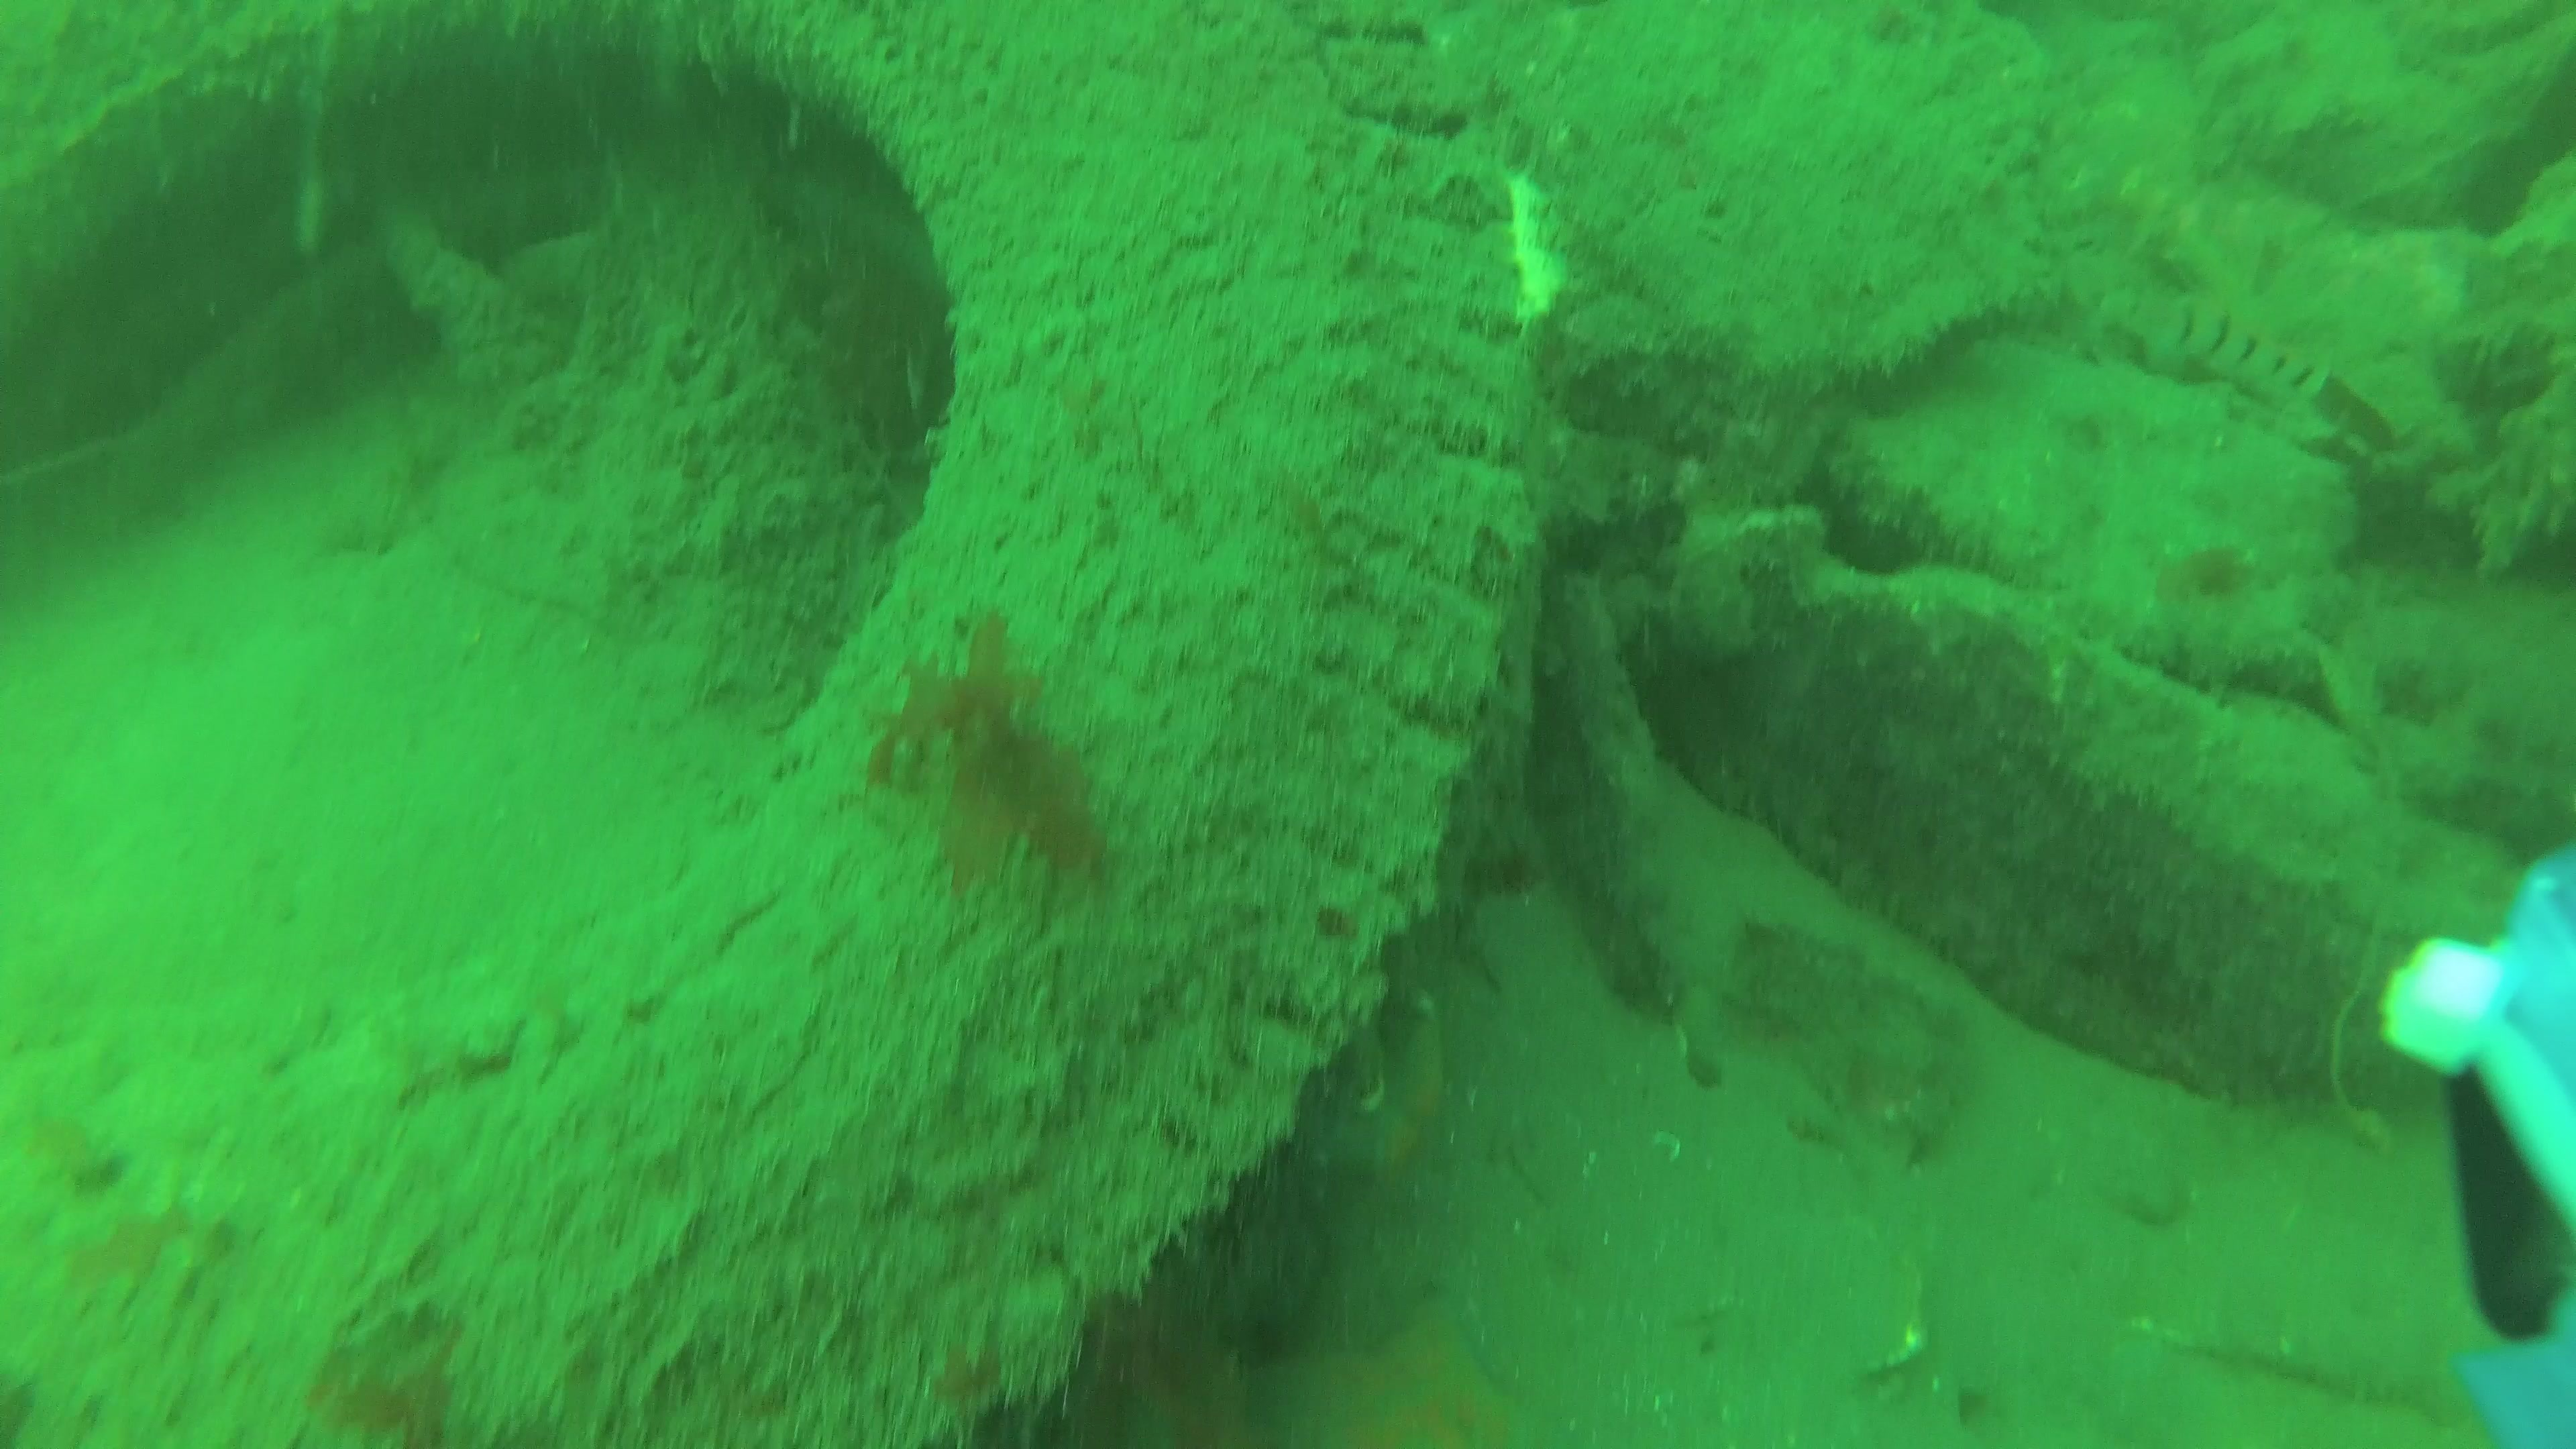holothurian: (1502, 168, 1573, 333)
starfish: (1256, 1279, 1568, 1449), (1320, 1014, 1451, 1180)
